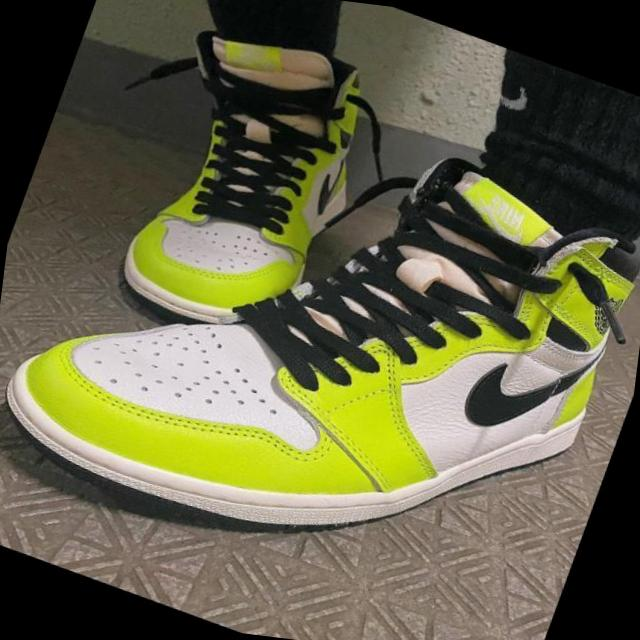nike_original_jordan: (1, 27, 640, 640), (101, 0, 413, 367)
